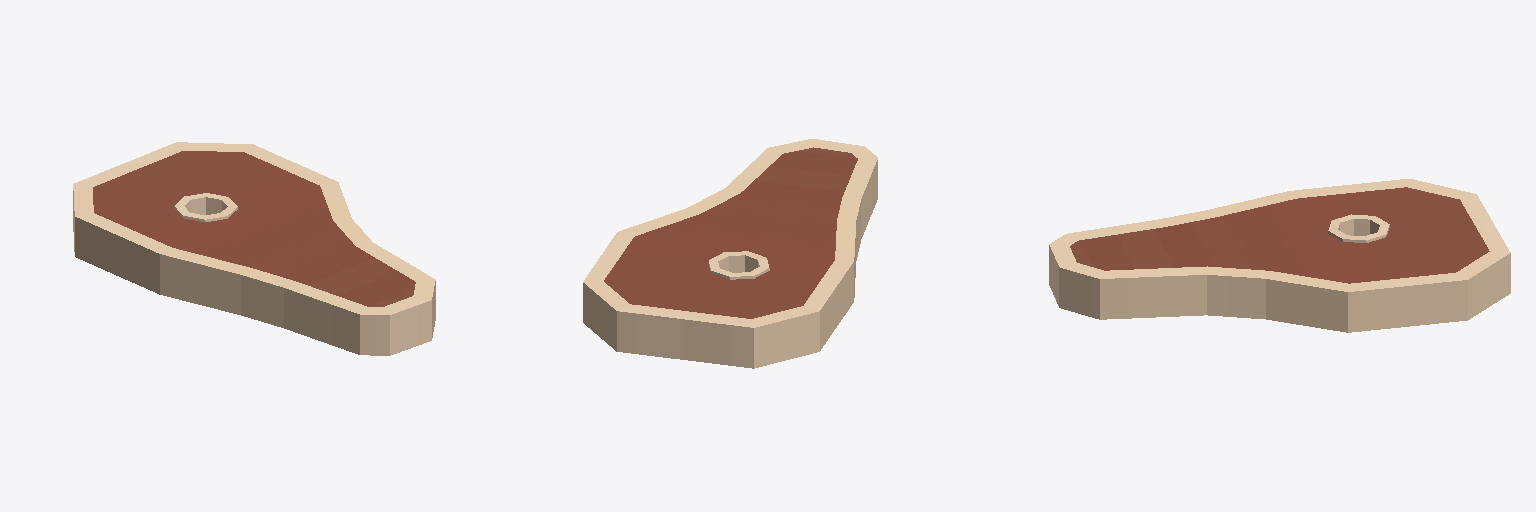
The picture shows the model from 3 angles: view 1: azimuth 30°, elevation 25°; view 2: azimuth 150°, elevation 25°; view 3: azimuth 270°, elevation 25°; orthographic projection.
Parts seen in each view (by area): view 1: Cube.014_Cube.044; view 2: Cube.014_Cube.044; view 3: Cube.014_Cube.044.
Boxes of the visible parts, x1,y1,x2,y2 form: Cube.014_Cube.044: [73, 142, 435, 355]; Cube.014_Cube.044: [583, 139, 877, 368]; Cube.014_Cube.044: [1049, 179, 1510, 332].
Size of the model in its own units: 1.48 by 0.2829 by 2.53.
1 materials, 1 textured.